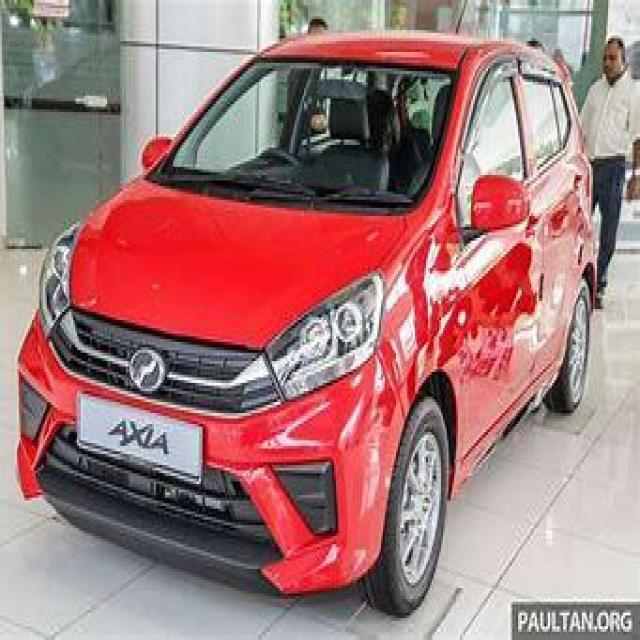PeroduaAxia: (14, 29, 599, 617)
